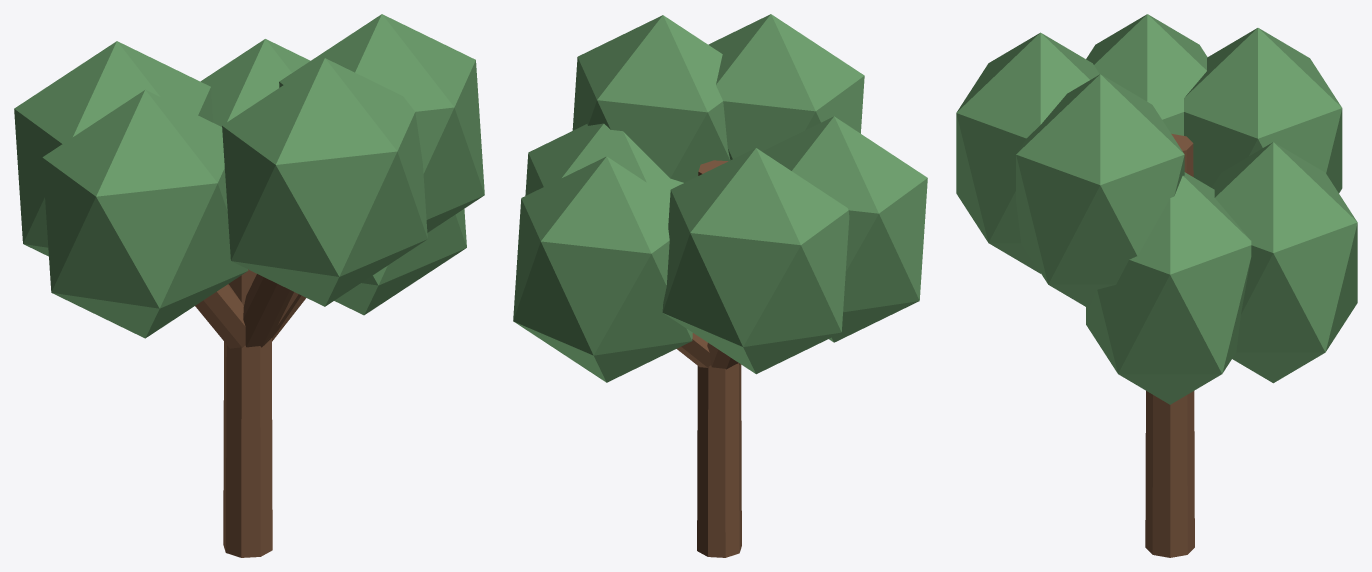
The model's file is nature_sapling.glb.
The picture shows the model from 3 angles, left to right: view 1: azimuth 30°, elevation 25°; view 2: azimuth 150°, elevation 25°; view 3: azimuth 270°, elevation 25°; orthographic projection. The views are drawn at different scales.
Visible parts, largest first — view 1: nature_sapling; view 2: nature_sapling; view 3: nature_sapling.
Boxes of the visible parts, x1=… form: nature_sapling: x1=14, y1=14, x2=484, y2=557; nature_sapling: x1=513, y1=14, x2=927, y2=557; nature_sapling: x1=956, y1=14, x2=1357, y2=557.
Bounding box in the file's own units: 1.51 × 1.85 × 1.3.
